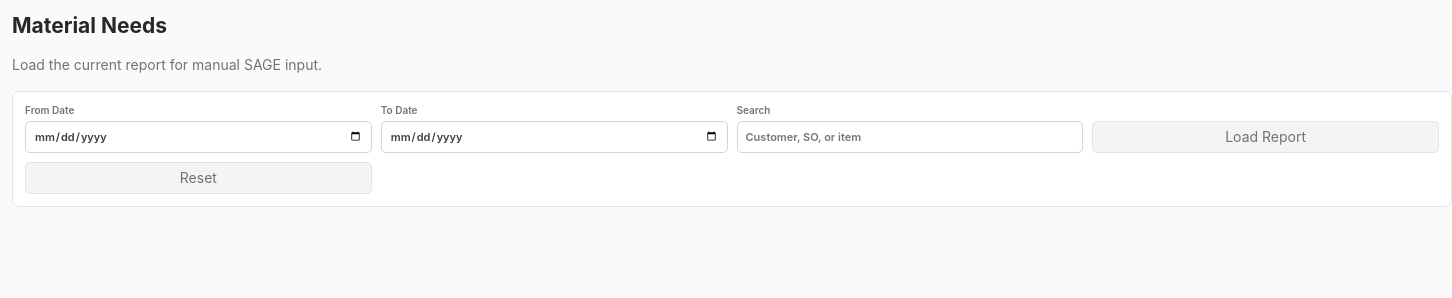
Scenario: ReportIndex › loads and exports the material requirement report
Click the button "Load Report": (1266, 137) [1092,121,1439,153]
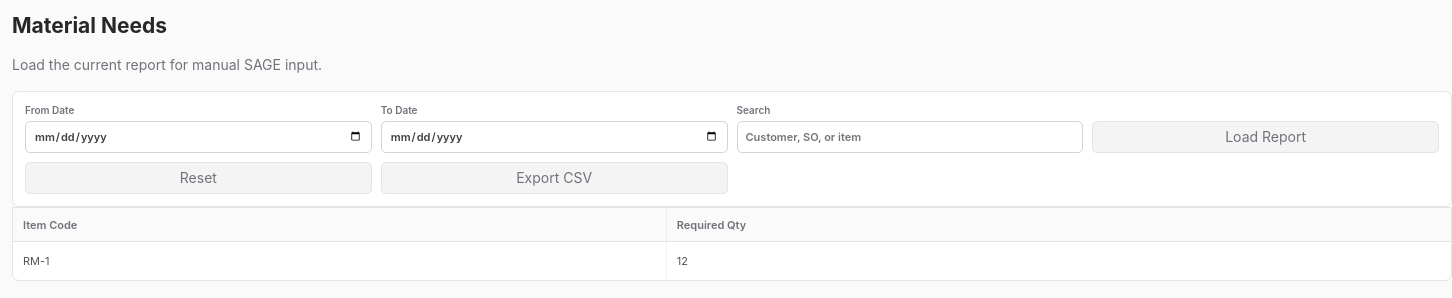
Expected: the text "RM-1" is shown, [13,242,666,280]
Expected: the button "Export CSV" is shown, [381,162,728,194]
